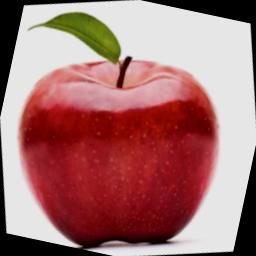Apple Ripe: (0, 34, 241, 256)
